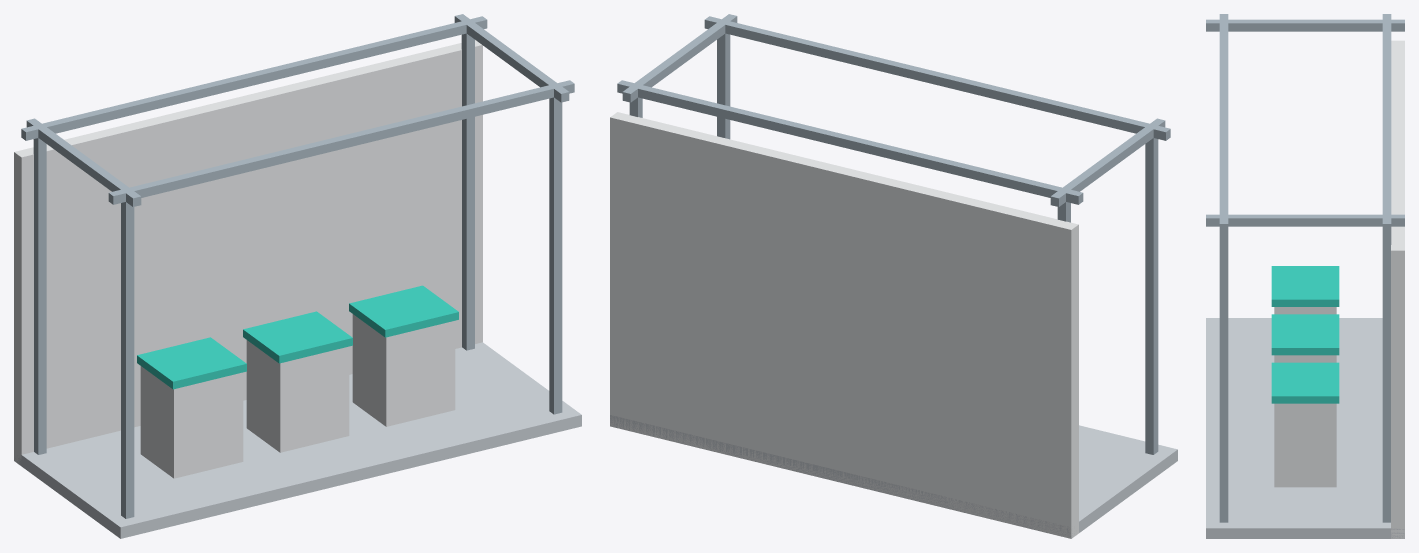
3 renders of one model, left to right at view 1: azimuth 30°, elevation 25°; view 2: azimuth 150°, elevation 25°; view 3: azimuth 270°, elevation 25°, orthographic. The views are drawn at different scales.
Parts seen in each view (by area): view 1: Exhibition Booth Concept; view 2: Exhibition Booth Concept; view 3: Exhibition Booth Concept.
Boxes of the visible parts, x1,y1,x2,y2 form: Exhibition Booth Concept: (14, 14, 581, 538); Exhibition Booth Concept: (610, 14, 1177, 538); Exhibition Booth Concept: (1206, 14, 1404, 538).
Size of the model in its own units: 5 by 3.49 by 2.
